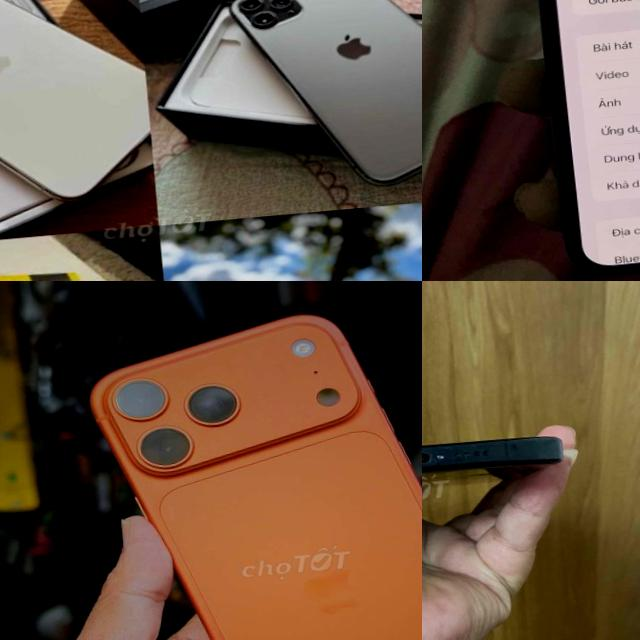scratch: (422, 436, 571, 473)
